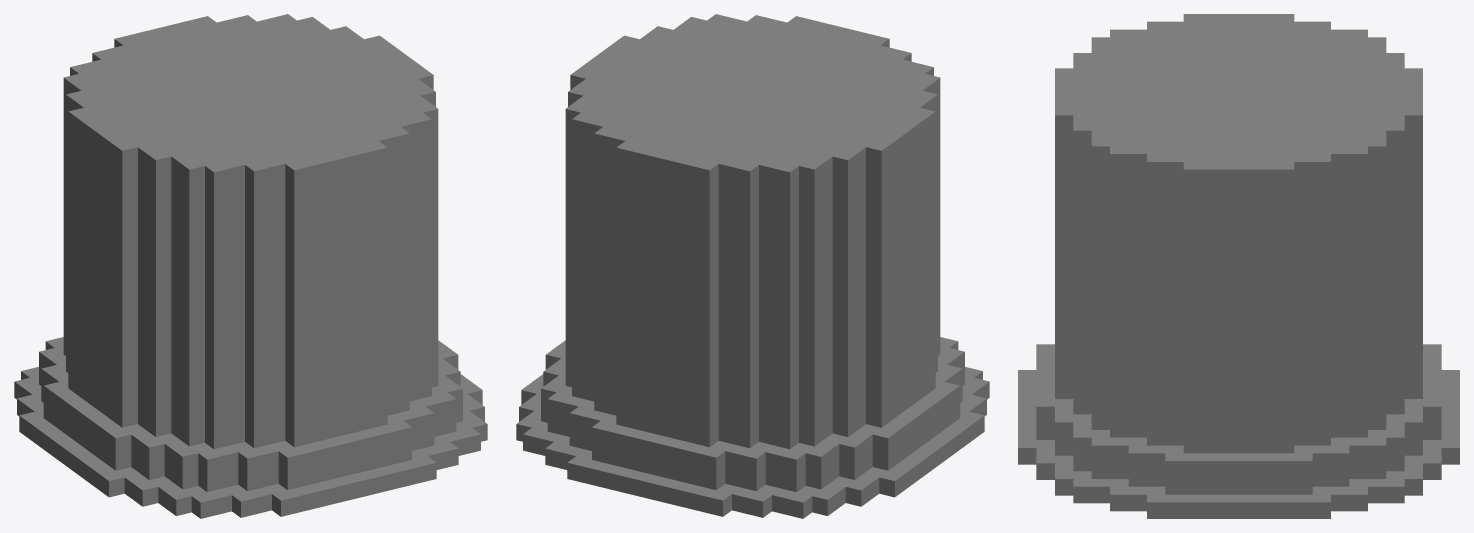
File: clind_bottom.obj
3 views of the same model, side by side, from view 1: azimuth 30°, elevation 25°; view 2: azimuth 150°, elevation 25°; view 3: azimuth 270°, elevation 25° (orthographic). The views are drawn at different scales.
Size of the model in its own units: 2.4 by 2 by 2.4.
1 material, 1 textured.
